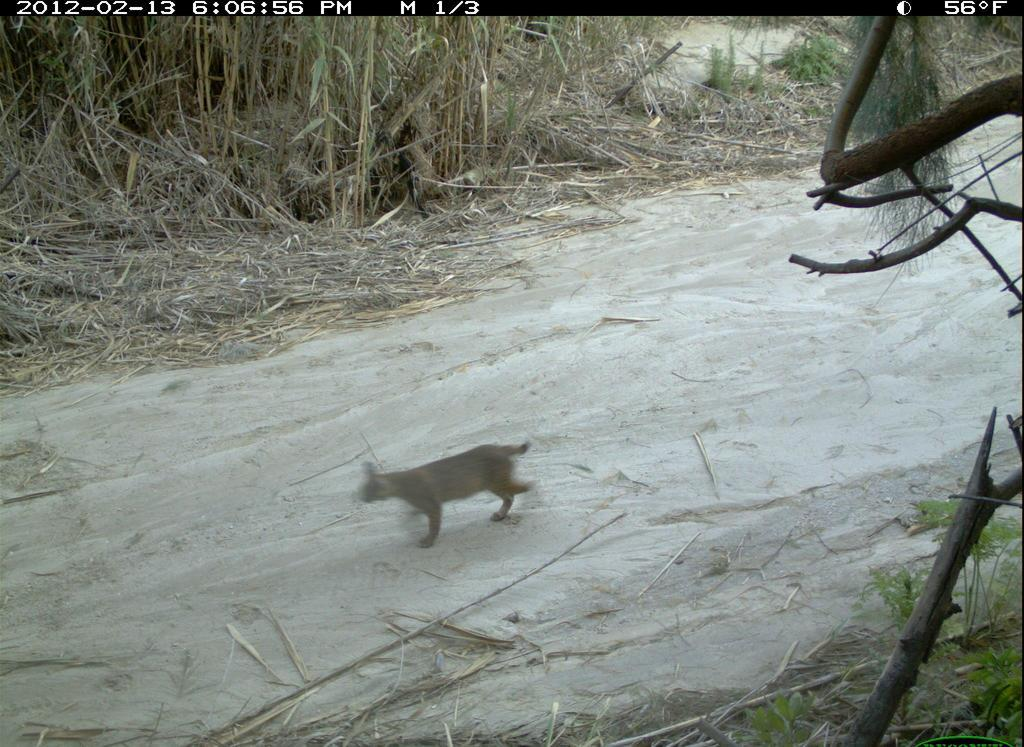bobcat: (349, 434, 545, 556)
